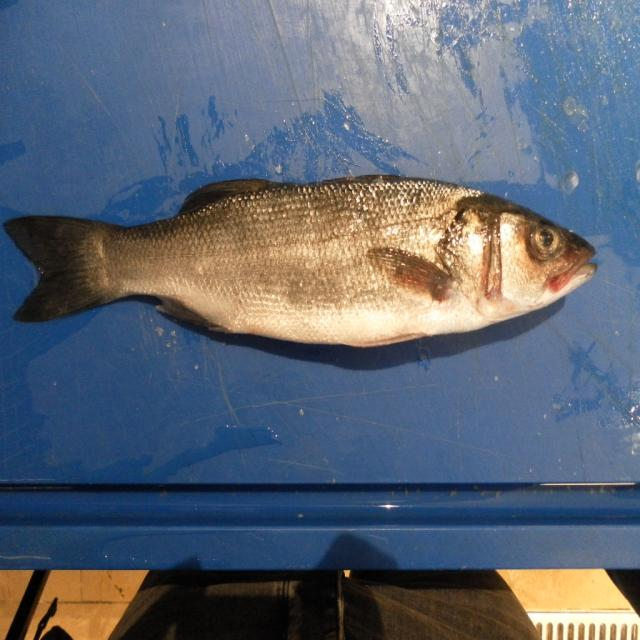Sea-Bass-levrek-: (4, 174, 599, 369)
